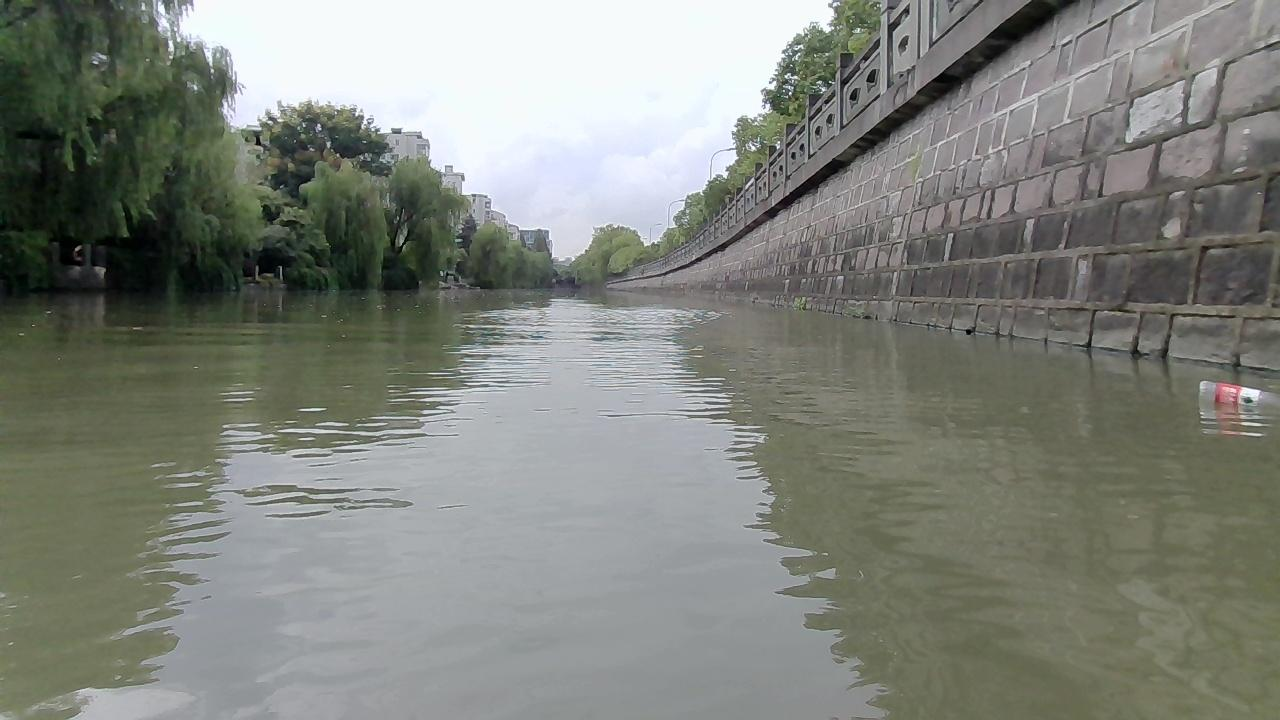bottle: (1196, 379, 1279, 403)
